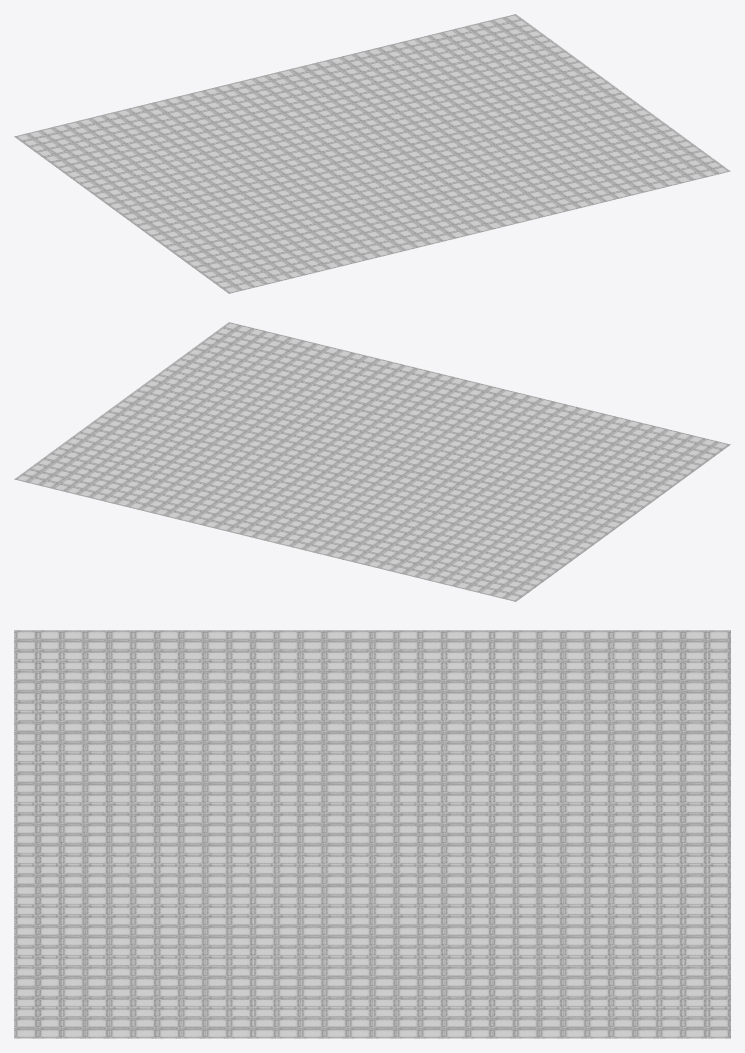
File: Ground.gltf
3 renders of one model, top to bottom at view 1: azimuth 30°, elevation 25°; view 2: azimuth 150°, elevation 25°; view 3: azimuth 270°, elevation 25°, orthographic. The views are drawn at different scales.
Visible parts, largest first — view 1: Floor.054, Floor.035, Floor.023, Floor.030, Floor.039, Floor.058, Floor.001, Floor.020, Floor.048, Floor.052, Floor.024, Floor.036 (+48 smaller); view 2: Floor.001, Floor.035, Floor.023, Floor.058, Floor.054, Floor.039, Floor.020, Floor.036, Floor.015, Floor.052, Floor.005, Floor.007 (+48 smaller); view 3: Floor.015, Floor.033, Floor.035, Floor.038, Floor.039, Floor.040, Floor.044, Floor.045, Floor.051, Floor.058, Floor.001, Floor.008 (+48 smaller).
Boxes of the visible parts, left/top/right/bottom form: Floor.054: left=265, top=14, right=522, bottom=80; Floor.035: left=423, top=129, right=680, bottom=195; Floor.023: left=179, top=196, right=436, bottom=262; Floor.030: left=473, top=166, right=730, bottom=232; Floor.039: left=373, top=93, right=629, bottom=158; Floor.058: left=294, top=35, right=551, bottom=101; Floor.001: left=43, top=96, right=300, bottom=162; Floor.020: left=122, top=154, right=379, bottom=220; Floor.048: left=337, top=66, right=594, bottom=132; Floor.052: left=308, top=45, right=565, bottom=111; Floor.024: left=172, top=190, right=429, bottom=256; Floor.036: left=430, top=135, right=687, bottom=201; Floor.001: left=294, top=514, right=551, bottom=580; Floor.035: left=172, top=359, right=429, bottom=425; Floor.023: left=430, top=414, right=687, bottom=480; Floor.058: left=43, top=453, right=300, bottom=519; Floor.054: left=14, top=474, right=271, bottom=540; Floor.039: left=122, top=395, right=378, bottom=461; Floor.020: left=373, top=456, right=629, bottom=522; Floor.036: left=179, top=353, right=436, bottom=419; Floor.015: left=387, top=446, right=644, bottom=512; Floor.052: left=57, top=442, right=314, bottom=508; Floor.005: left=265, top=535, right=522, bottom=601; Floor.007: left=308, top=504, right=565, bottom=570; Floor.015: left=300, top=630, right=324, bottom=834; Floor.033: left=85, top=834, right=109, bottom=1038; Floor.035: left=181, top=834, right=205, bottom=1038; Floor.038: left=324, top=834, right=348, bottom=1038; Floor.039: left=348, top=834, right=372, bottom=1038; Floor.040: left=372, top=834, right=396, bottom=1038; Floor.044: left=300, top=834, right=324, bottom=1038; Floor.045: left=276, top=834, right=300, bottom=1038; Floor.051: left=539, top=834, right=563, bottom=1038; Floor.058: left=611, top=834, right=635, bottom=1038; Floor.001: left=611, top=630, right=635, bottom=834; Floor.008: left=539, top=630, right=563, bottom=834.
Size of the model in its own units: 108 by 0 by 79.99.
Materials: 60 (60 with a texture image).
